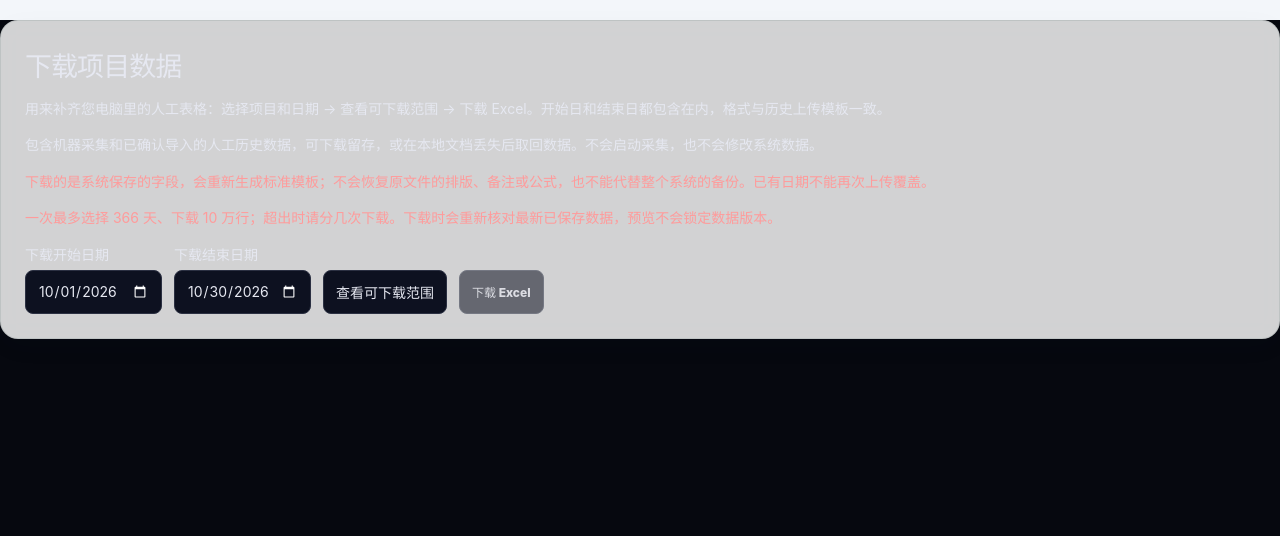
Test case: collected data export › downloads once and reports browser handoff, not a successful save to disk
Submit the form, box [25,246,544,314]
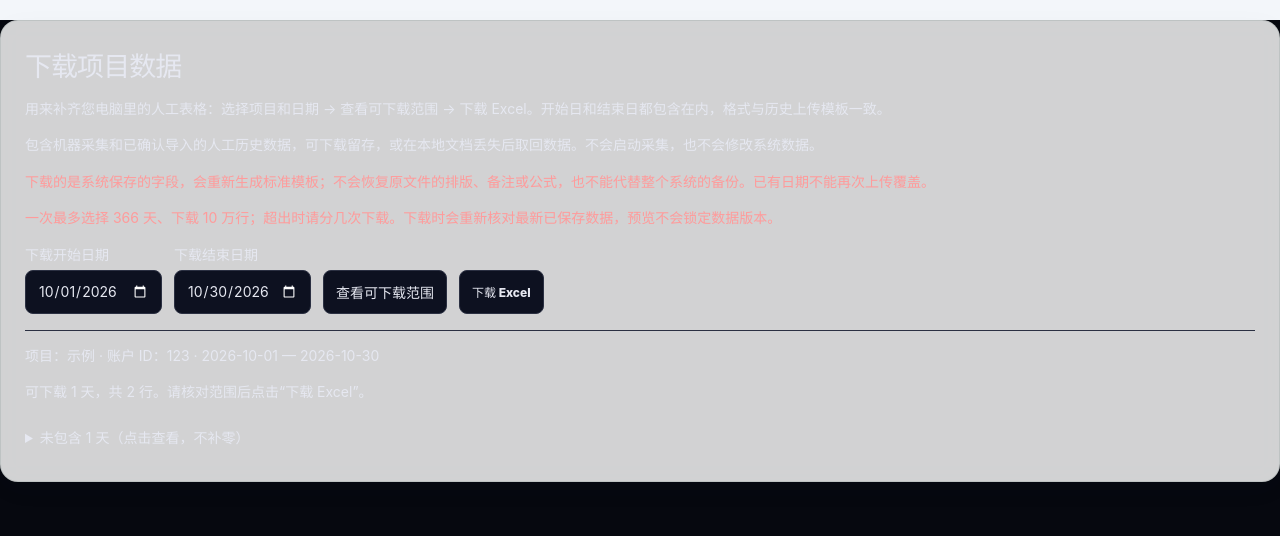
Click the button "下载 Excel": (501, 292) [459,270,544,314]
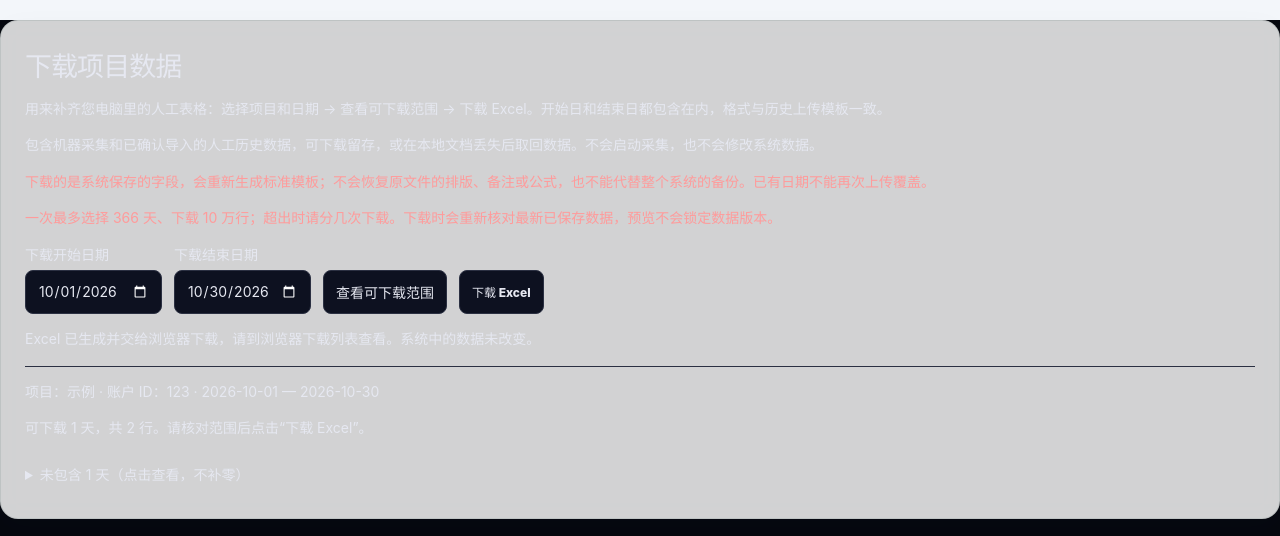
Now the text "交给浏览器下载" is shown, box [25,330,540,347]
